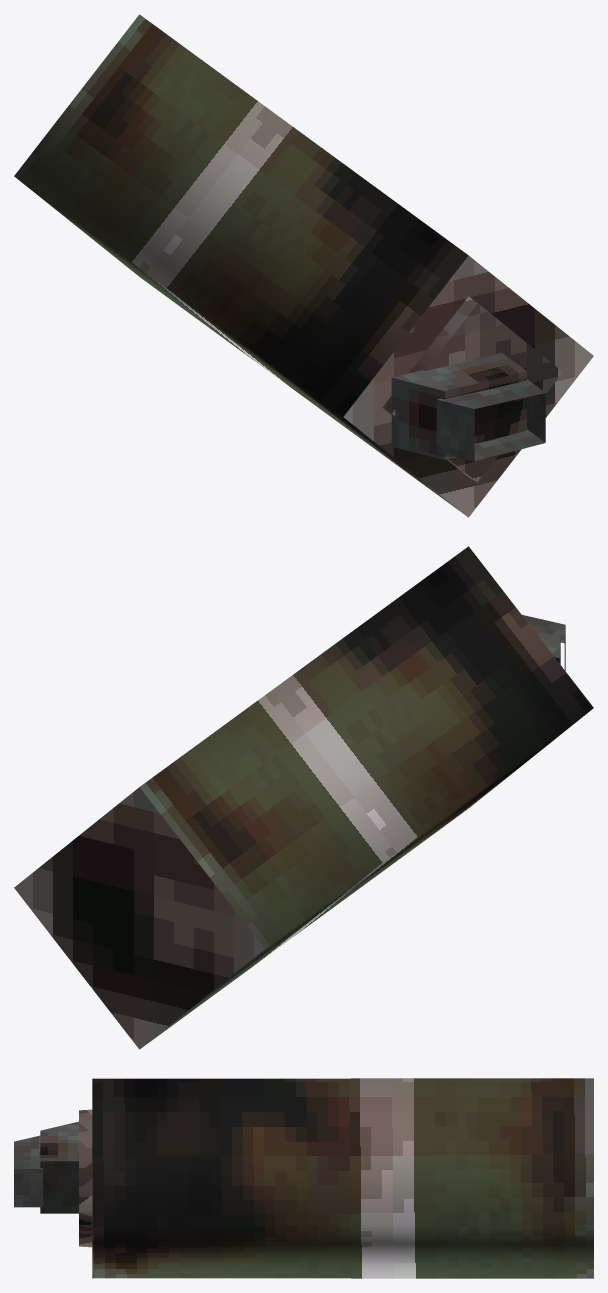
The model's file is weapon_us_smoke_grenade_burnt_LOD2.obj.
3 views of the same model, one above another, from view 1: azimuth 30°, elevation 25°; view 2: azimuth 150°, elevation 25°; view 3: azimuth 270°, elevation 25° (orthographic). The views are drawn at different scales.
Parts seen in each view (by area): view 1: mtl_us_smoke_grenade_burnt; view 2: mtl_us_smoke_grenade_burnt; view 3: mtl_us_smoke_grenade_burnt.
Part boxes in pixels (x1,y1,x2,y2): mtl_us_smoke_grenade_burnt: [14, 14, 593, 517]; mtl_us_smoke_grenade_burnt: [14, 546, 593, 1049]; mtl_us_smoke_grenade_burnt: [14, 1078, 593, 1278].
Bounding box in the file's own units: 5.46 × 5.46 × 14.35.
